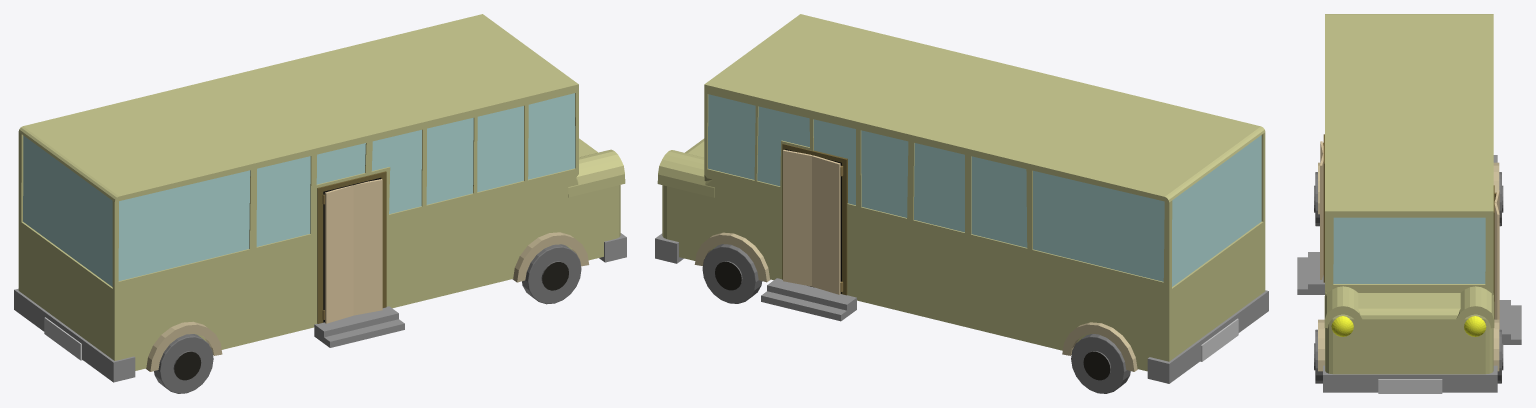
Rendered from Bus.fbx.
3 views of the same model, side by side, from view 1: azimuth 30°, elevation 25°; view 2: azimuth 150°, elevation 25°; view 3: azimuth 270°, elevation 25° (orthographic). The views are drawn at different scales.
Visible parts, largest first — view 1: whole_bus1; view 2: whole_bus1; view 3: whole_bus1.
Boxes of the visible parts, bbox=[...] form: whole_bus1: bbox=[14, 14, 626, 393]; whole_bus1: bbox=[655, 14, 1268, 393]; whole_bus1: bbox=[1297, 14, 1521, 393].
Bounding box in the file's own units: 13.38 × 5.13 × 5.7.
